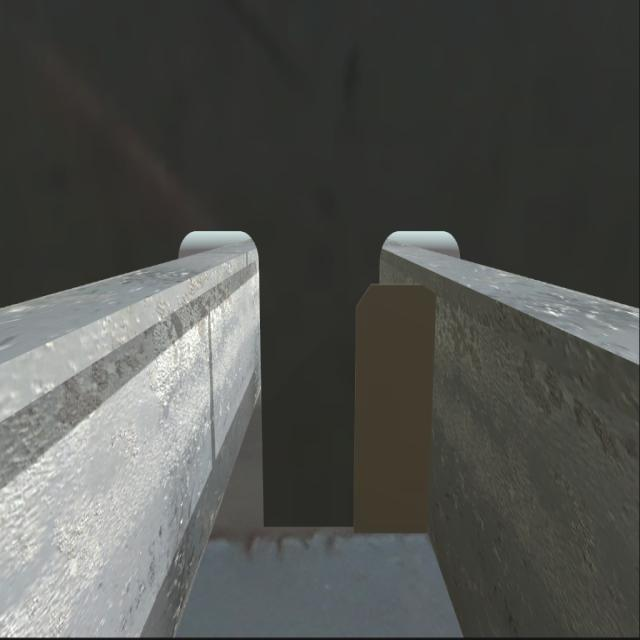fillet_yong_jeop_jang: (257, 522, 432, 544)
longi_yong_jeop_jang: (425, 289, 438, 538)
plate_CP03: (352, 285, 436, 535)
